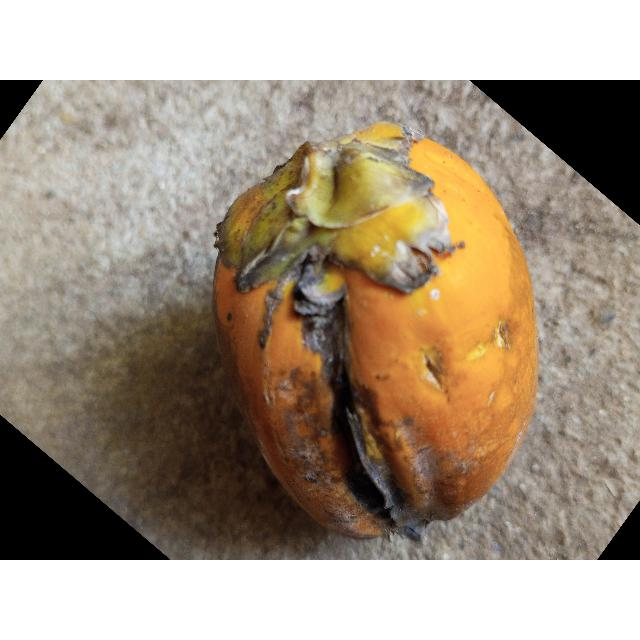damaged: (214, 123, 538, 540)
